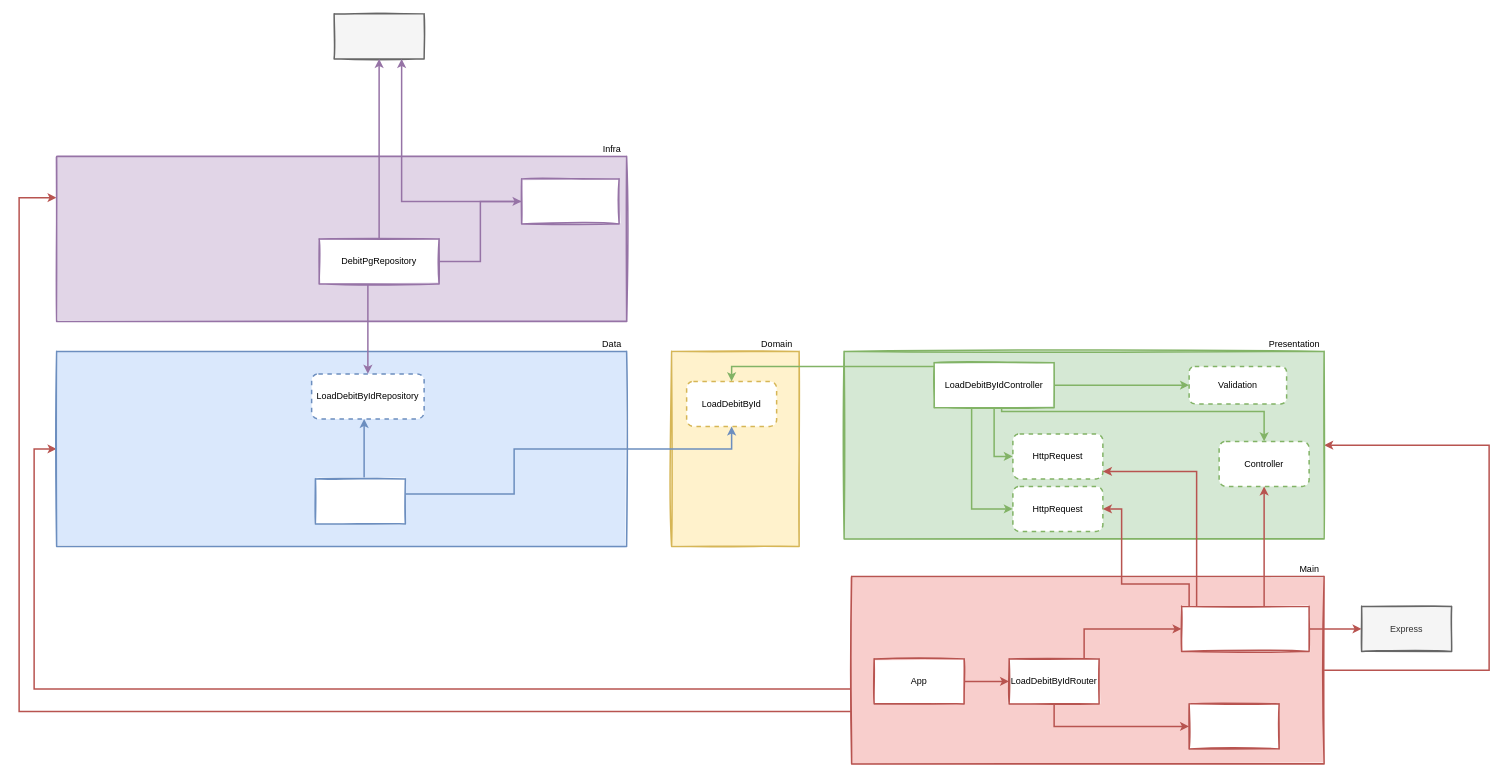
Image size: 1508x777. Some labels were removed from this diagram. The box of each missing label's shape, as (x1, y1, x2, y2) in pixels:
DbLoadDebitById: (314, 478, 406, 524)
DebitEntity: (520, 178, 620, 224)
ExpressRouterAdapter: (1180, 605, 1310, 652)
LoadDebitByIdFactory: (1188, 703, 1280, 749)
TypeOrm: (333, 13, 424, 59)
